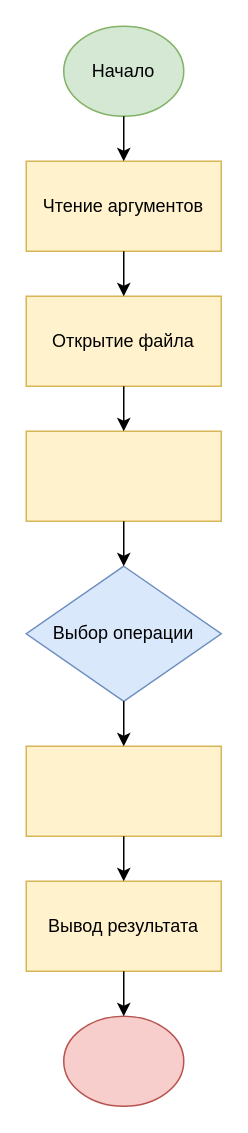
Image size: 248x1133. Some labels were removed from this diagram. Each missing label, with the centre of its shape:
"Вычисление" goes at [123,790].
"Конец" goes at [123,1060].
"Парсинг чисел" goes at [123,475].
